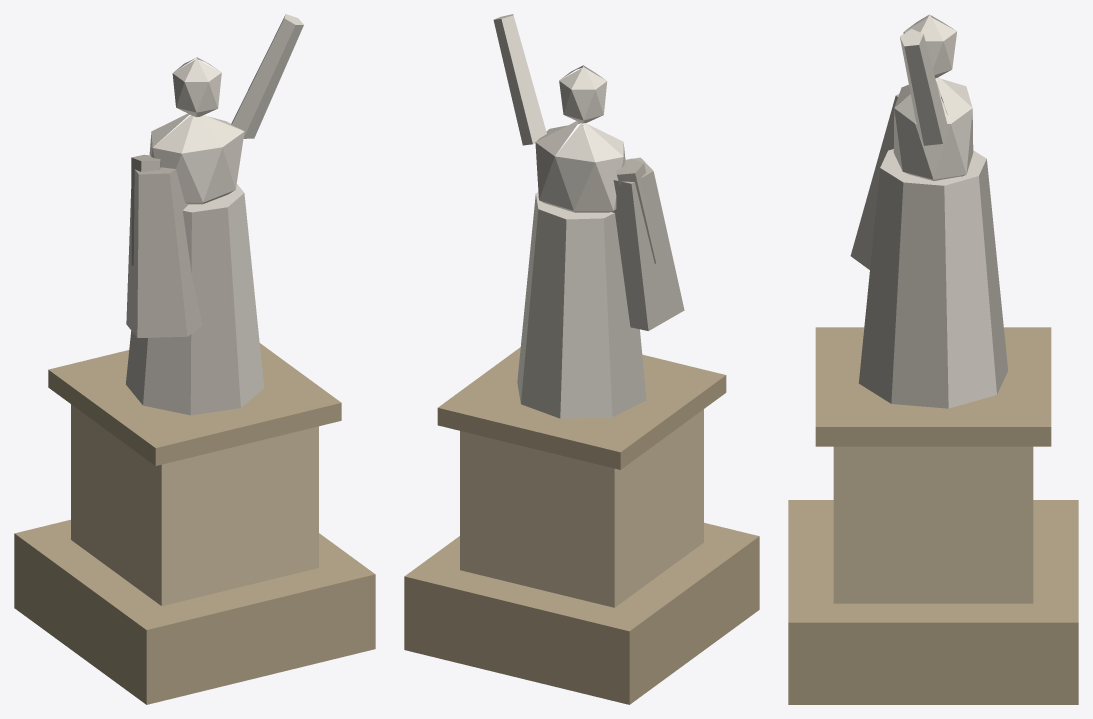
Rendered from statue.glb.
3 views of the same model, side by side, from view 1: azimuth 30°, elevation 25°; view 2: azimuth 150°, elevation 25°; view 3: azimuth 270°, elevation 25° (orthographic). The views are drawn at different scales.
Parts seen in each view (by area): view 1: statue2; view 2: statue2; view 3: statue2.
Boxes of the visible parts, <box> form: statue2: <box>14,14,375,704</box>; statue2: <box>404,14,759,704</box>; statue2: <box>788,14,1078,704</box>.
Bounding box in the file's own units: 1.6 × 4 × 1.6.
